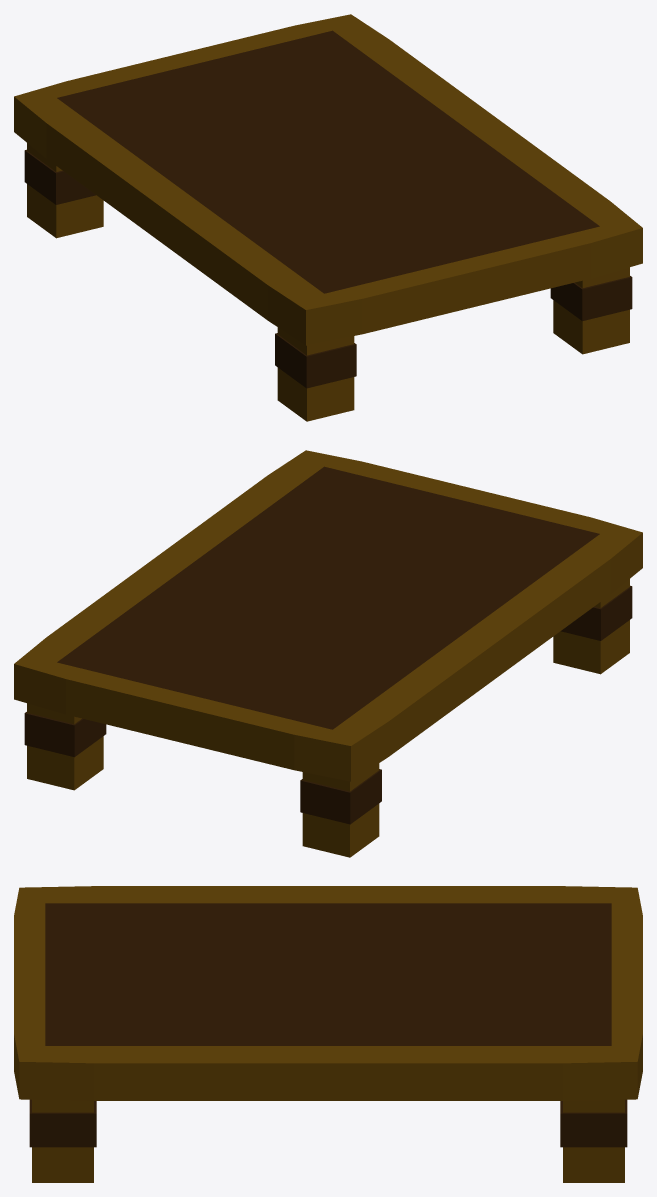
The model's file is lowpoly_coffeeTable.fbx.
The picture shows the model from 3 angles, top to bottom: view 1: azimuth 30°, elevation 25°; view 2: azimuth 150°, elevation 25°; view 3: azimuth 270°, elevation 25°; orthographic projection. The views are drawn at different scales.
Parts seen in each view (by area): view 1: coffeeTable; view 2: coffeeTable; view 3: coffeeTable.
Part boxes in pixels (box(x1,y1,x2,y2)): coffeeTable: box(14, 14, 642, 421); coffeeTable: box(14, 450, 642, 857); coffeeTable: box(14, 886, 642, 1182).
Bounding box in the file's own units: 106 × 34.81 × 159.
